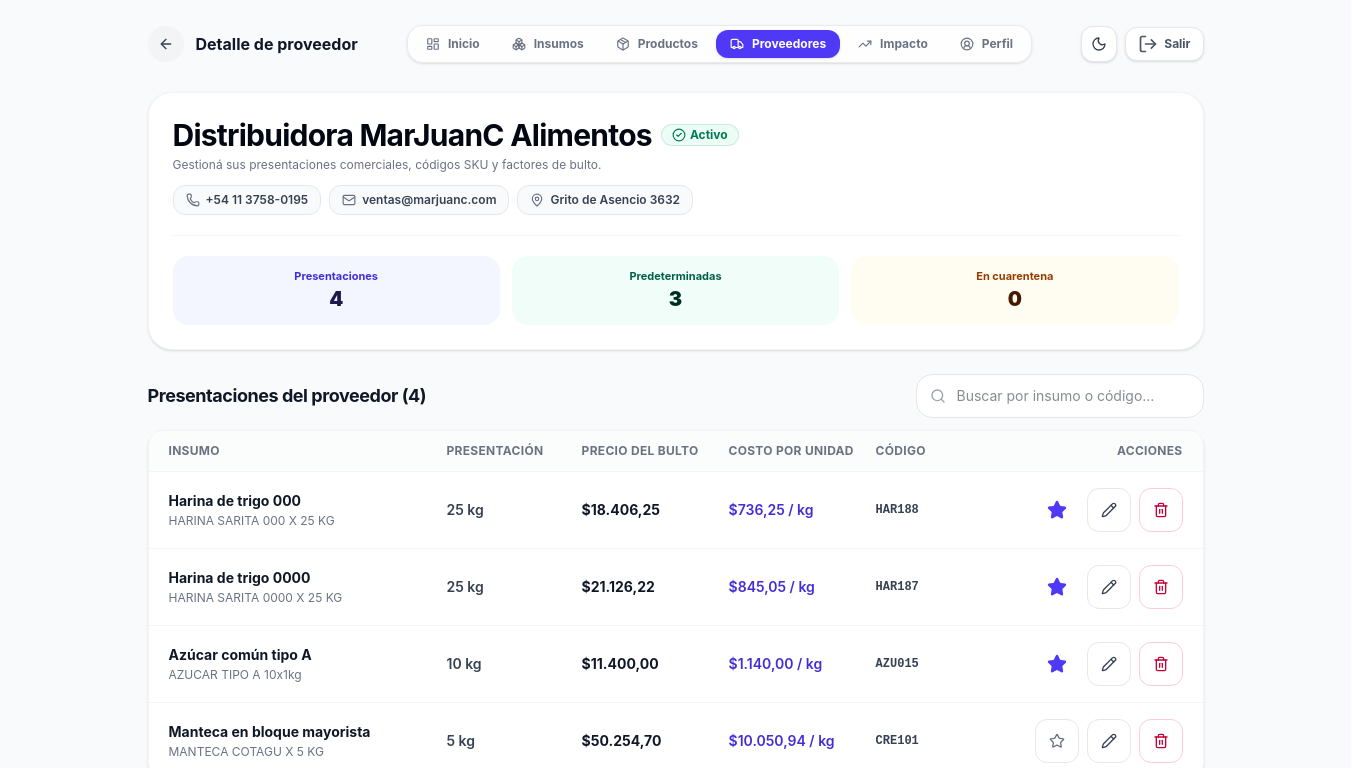
Test: SupplierDetailPage (/proveedores/:id) — Escenarios Gherkin › Escenario Gherkin "Corregir un código": edita y guarda un nuevo código de artículo
Expected: the heading "Distribuidora MarJuanC Alimentos" is shown, x1=172 y1=117 x2=652 y2=153
Click the button named "Editar presentación de Harina de trigo 000" at (1108, 510), box x1=1086 y1=488 x2=1130 y2=532
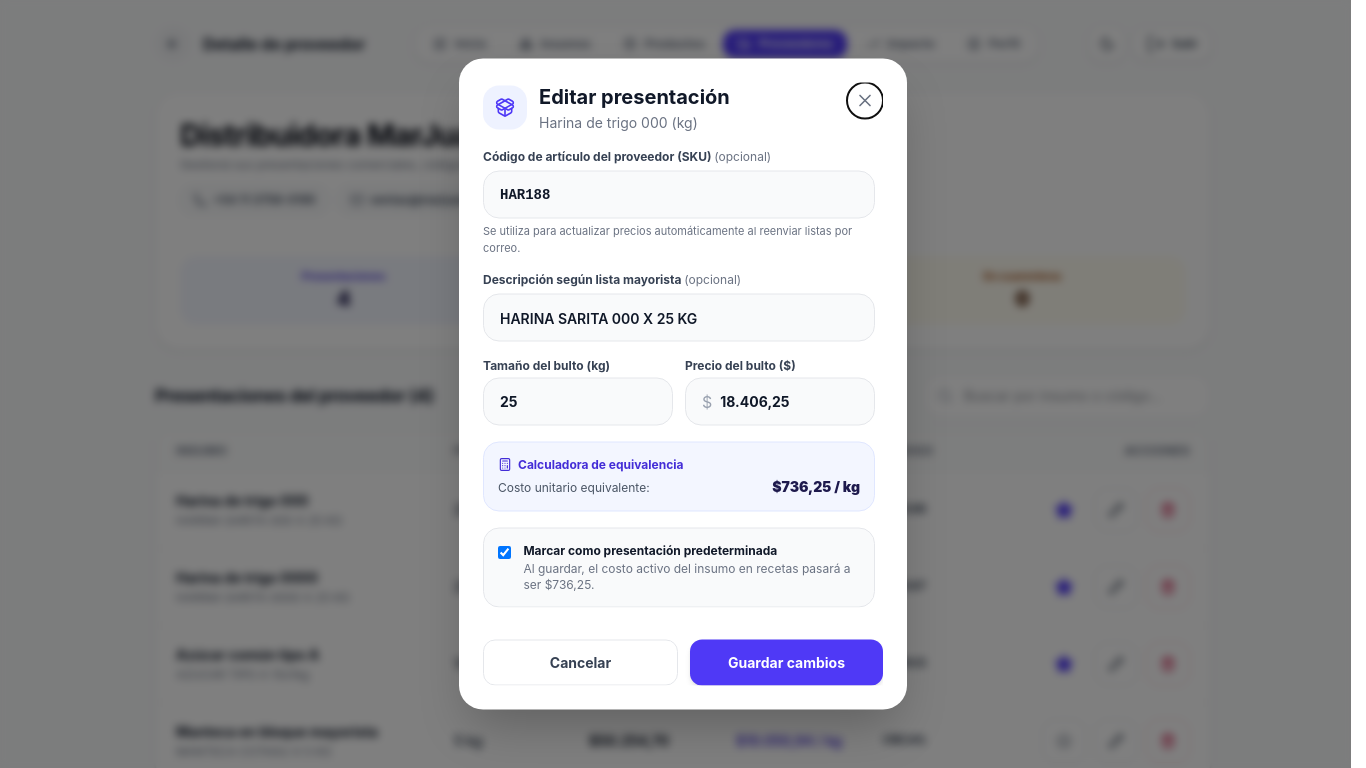
Replace the text in the field labelled "Código de artículo del proveedor (SKU) (opcional)" with "HAR-000-NEW" at (679, 194), box x1=483 y1=170 x2=875 y2=218
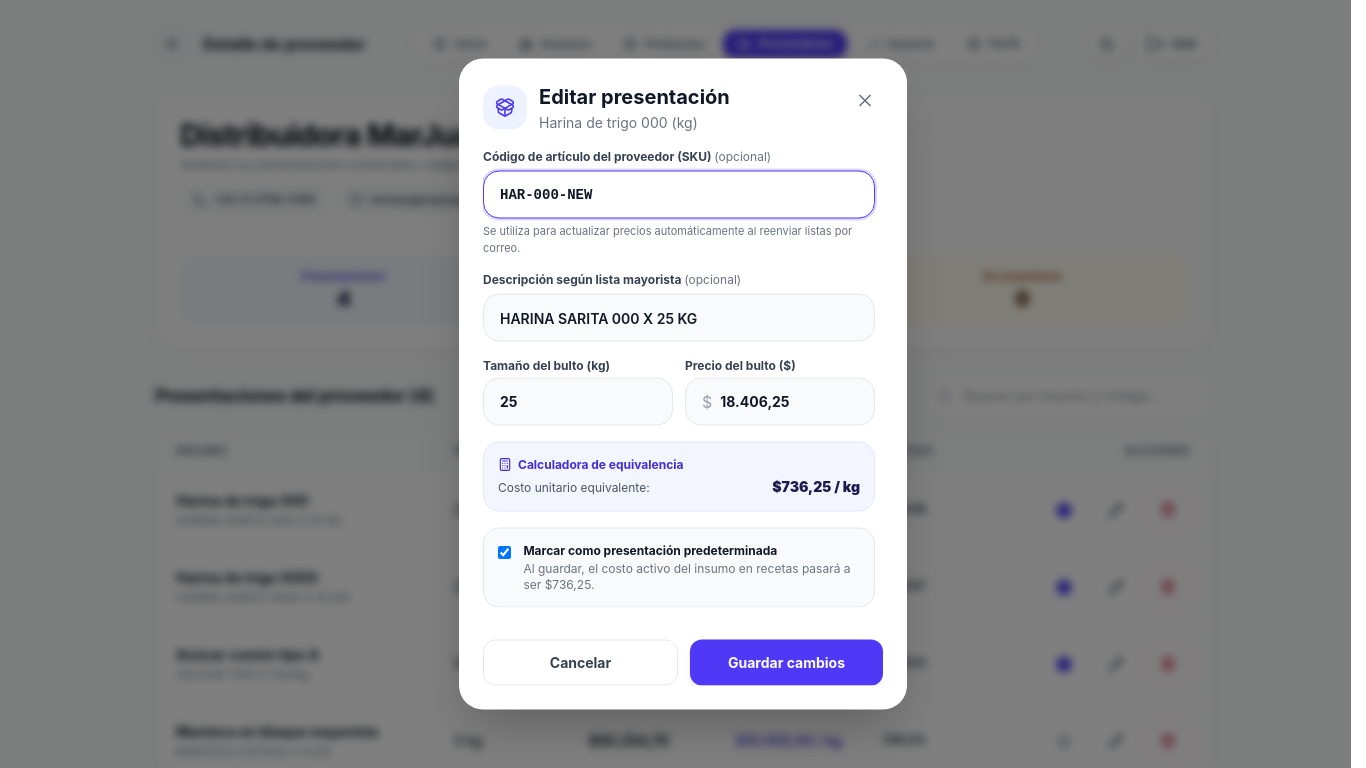
Click the button "Guardar cambios" at (786, 662), box x1=690 y1=640 x2=883 y2=686
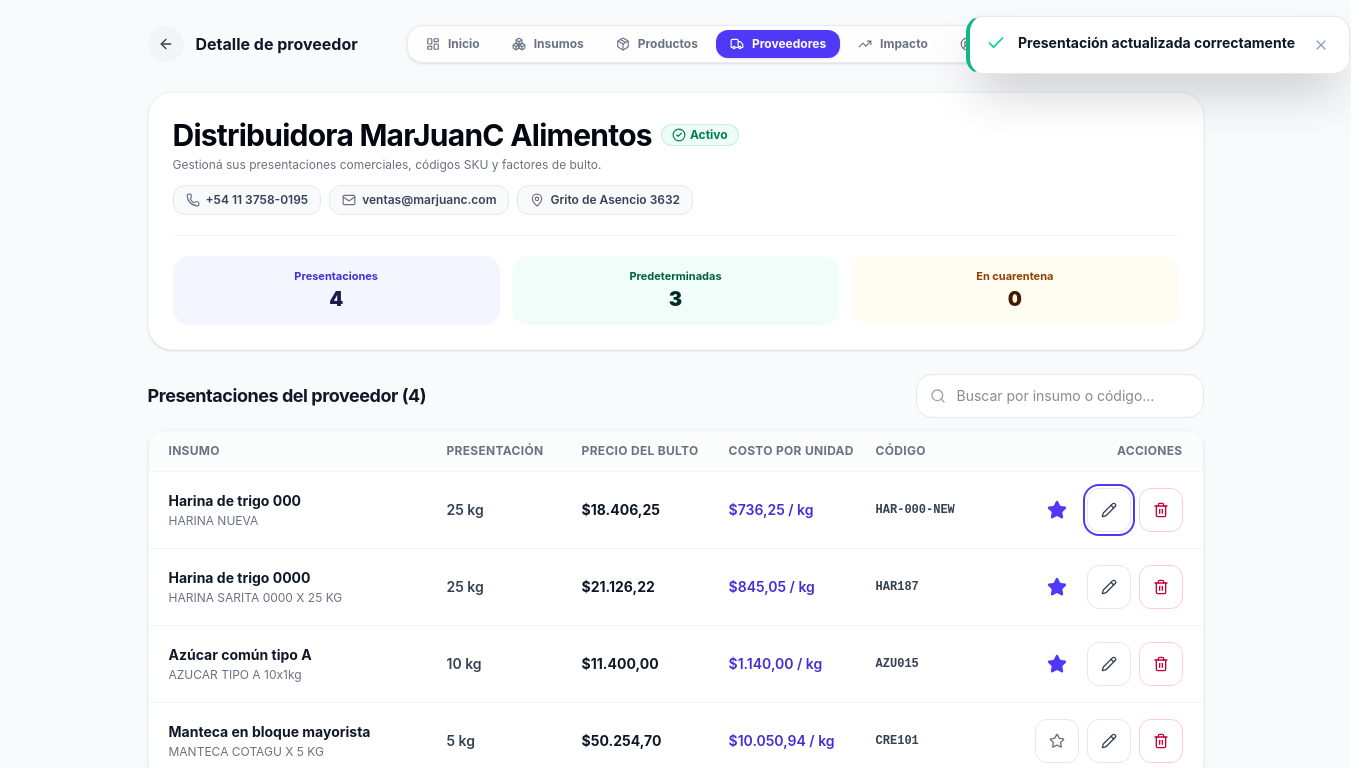
Expected: the picture named "Presentación predeterminada" in the row of "HARINA NUEVA" is shown, x1=1046 y1=500 x2=1066 y2=520
Expected: the text "Presentación actualizada correctamente" is shown, x1=1018 y1=33 x2=1295 y2=53
Expected: the text "presentación predeterminada" is gone
